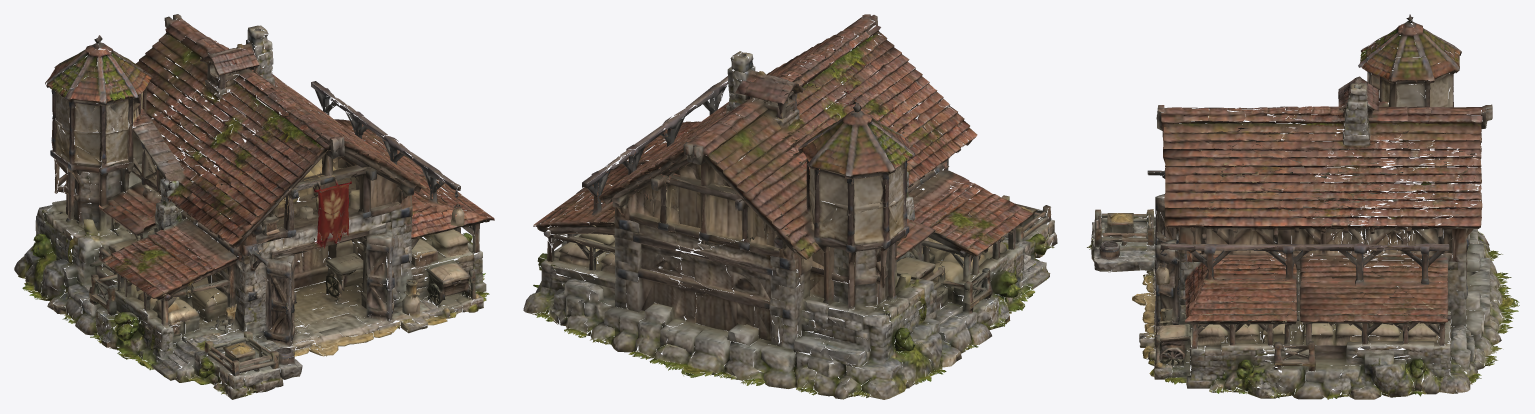
Rendered from Valoria_Granero_GCSUv1.glb.
3 views of the same model, side by side, from view 1: azimuth 30°, elevation 25°; view 2: azimuth 150°, elevation 25°; view 3: azimuth 270°, elevation 25° (orthographic). The views are drawn at different scales.
Visible parts, largest first — view 1: Granero · authored 00; view 2: Granero · authored 00; view 3: Granero · authored 00.
Boxes of the visible parts, bbox=[...] form: Granero · authored 00: bbox=[14, 14, 494, 399]; Granero · authored 00: bbox=[523, 14, 1057, 399]; Granero · authored 00: bbox=[1087, 14, 1519, 399].
Bounding box in the file's own units: 4.45 × 2.73 × 4.44.
Materials: 1 (1 with a texture image).
